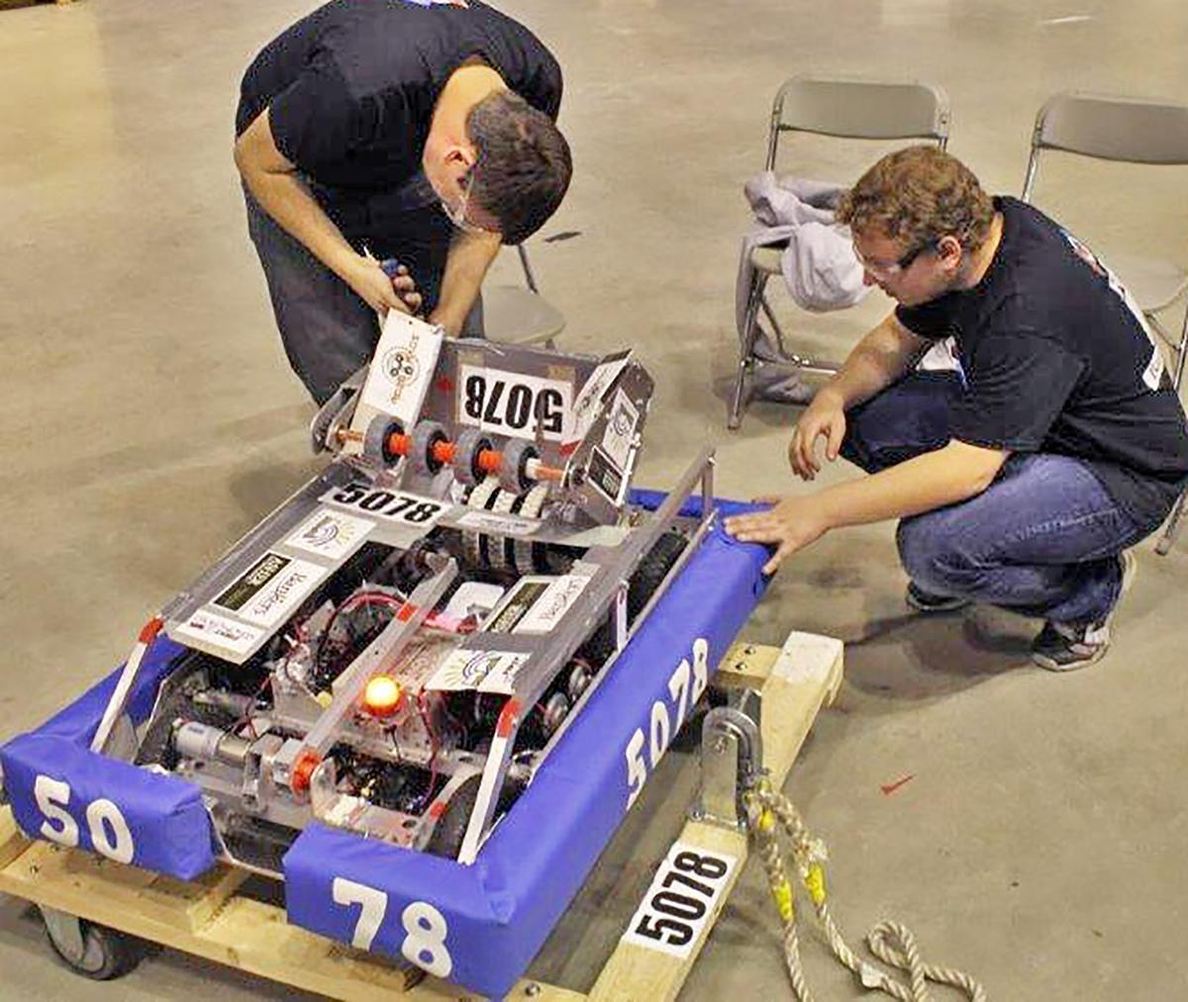robot: (0, 309, 792, 1002)
